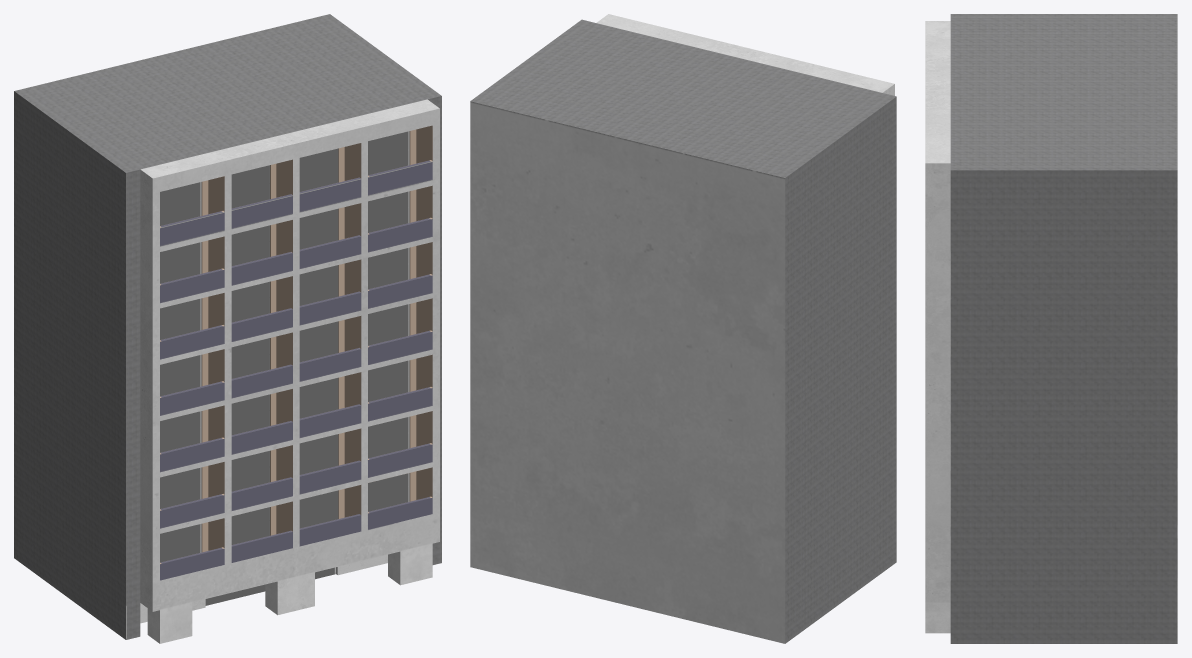
Rendered from apartment2.fbx.
3 views of the same model, side by side, from view 1: azimuth 30°, elevation 25°; view 2: azimuth 150°, elevation 25°; view 3: azimuth 270°, elevation 25° (orthographic).
Parts seen in each view (by area): view 1: apartment3; view 2: apartment3; view 3: apartment3.
Part boxes in pixels (x1,y1,x2,y2): apartment3: [14, 14, 441, 643]; apartment3: [470, 14, 896, 643]; apartment3: [925, 14, 1177, 643].
Bounding box in the file's own units: 2200 × 3109 × 1500.
1 material, 1 textured.
